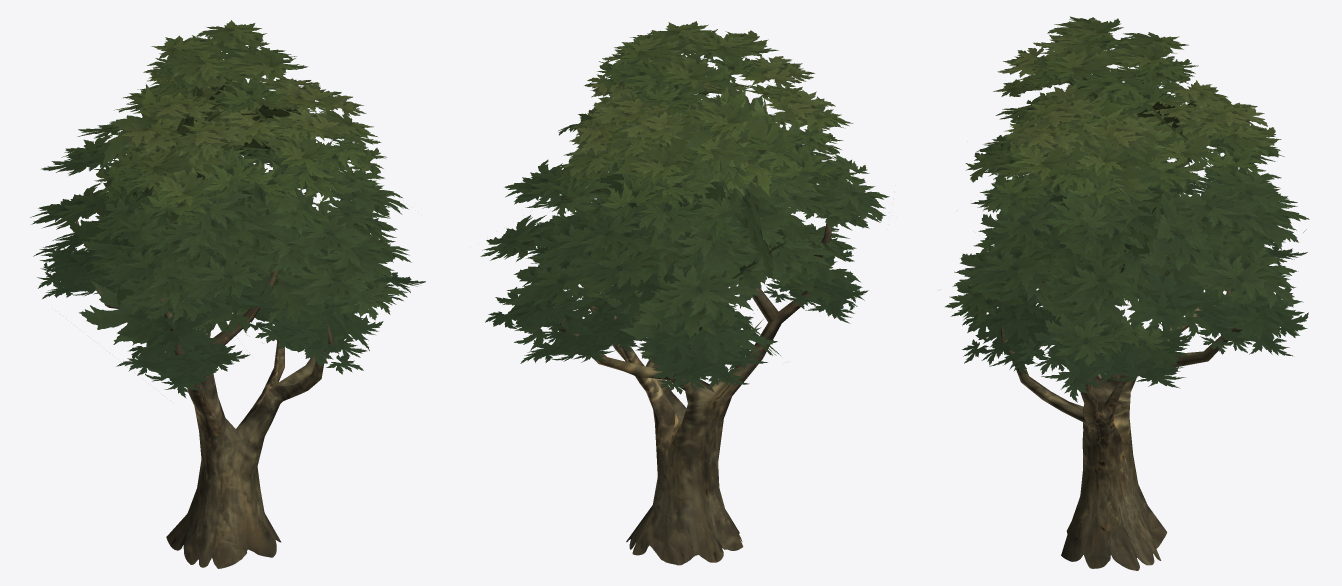
The model's file is tree_oak_02.fbx.
3 renders of one model, left to right at view 1: azimuth 30°, elevation 25°; view 2: azimuth 150°, elevation 25°; view 3: azimuth 270°, elevation 25°, orthographic.
Parts seen in each view (by area): view 1: tree_oak_02; view 2: tree_oak_02; view 3: tree_oak_02.
Boxes of the visible parts, left/top/right/bottom form: tree_oak_02: left=30, top=20, right=425, bottom=568; tree_oak_02: left=480, top=21, right=889, bottom=565; tree_oak_02: left=945, top=16, right=1309, bottom=570.
Size of the model in its own units: 27306 by 36204 by 25794.
